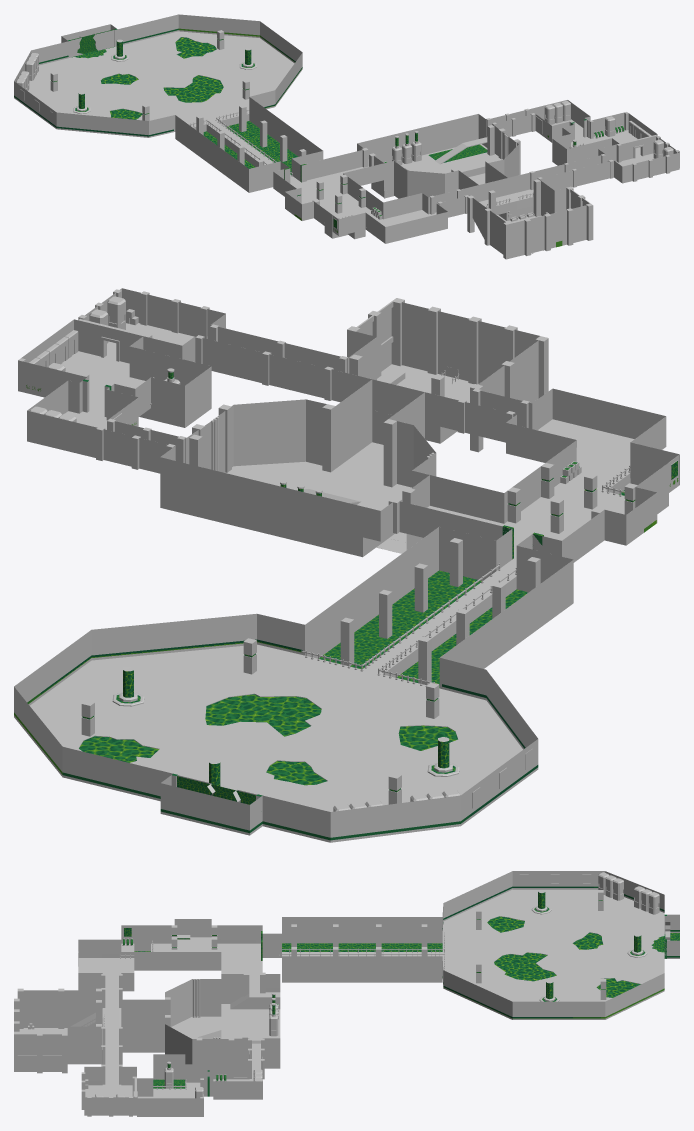
Rendered from SHINO_NUMA_after_bake1_FIXED_NORMALS.fbx.
3 renders of one model, top to bottom at view 1: azimuth 30°, elevation 25°; view 2: azimuth 150°, elevation 25°; view 3: azimuth 270°, elevation 25°, orthographic. The views are drawn at different scales.
Visible parts, largest first — view 1: Icosphere; view 2: Icosphere; view 3: Icosphere.
Part boxes in pixels (x1=…): Icosphere: x1=14, y1=14, x2=679, y2=259; Icosphere: x1=14, y1=288, x2=679, y2=842; Icosphere: x1=14, y1=871, x2=679, y2=1116.
Size of the model in its own units: 5024 by 499 by 6216.
